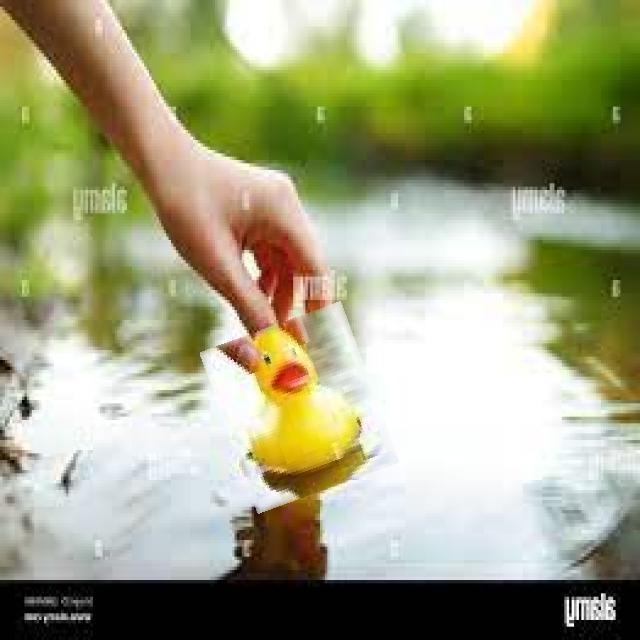rubber-duck: (202, 302, 381, 494)
